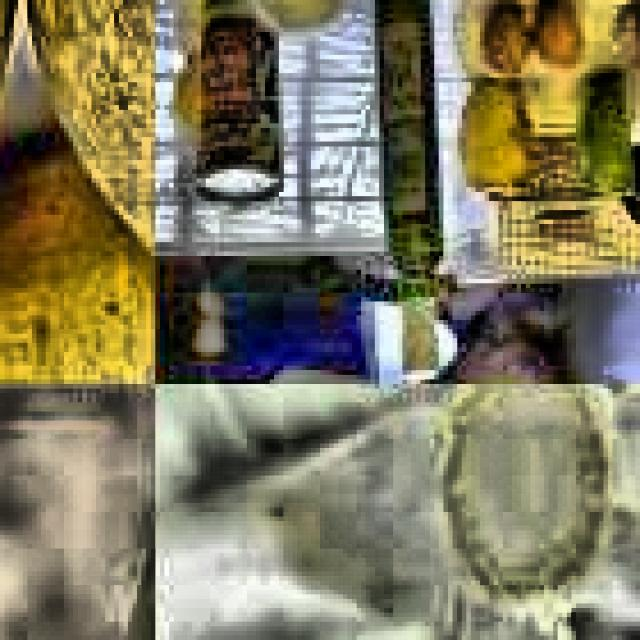cabbage: (155, 384, 640, 640)
egg: (475, 0, 530, 83), (530, 0, 585, 73)
onion: (228, 0, 375, 41)
potato: (23, 0, 155, 384), (0, 151, 155, 384)
